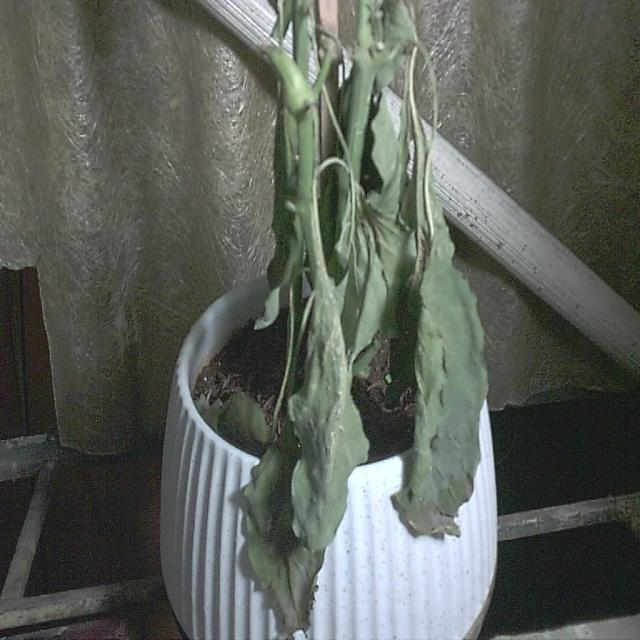Leaf: (242, 276, 368, 638), (389, 247, 486, 542)
